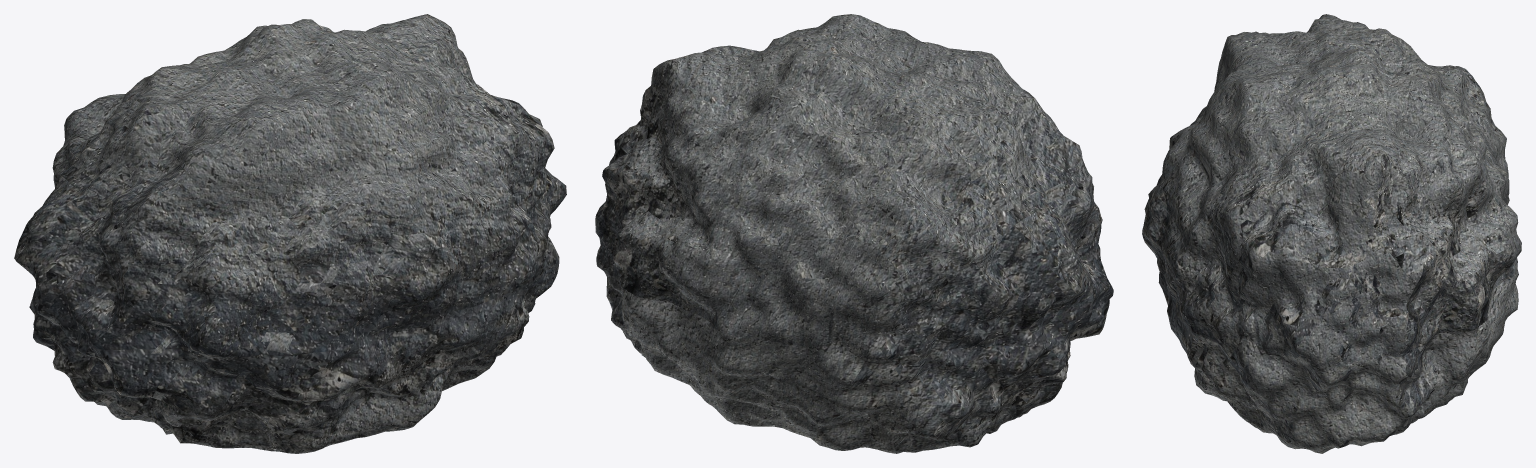
The model's file is cracked-boulder-v02.glb.
3 views of the same model, side by side, from view 1: azimuth 30°, elevation 25°; view 2: azimuth 150°, elevation 25°; view 3: azimuth 270°, elevation 25° (orthographic). The views are drawn at different scales.
Visible parts, largest first — view 1: Irregular grey granite boulder; view 2: Irregular grey granite boulder; view 3: Irregular grey granite boulder.
Part boxes in pixels (x1,y1,x2,y2): Irregular grey granite boulder: (14, 14, 566, 453); Irregular grey granite boulder: (595, 14, 1113, 453); Irregular grey granite boulder: (1142, 14, 1521, 453).
Bounding box in the file's own units: 2.78 × 1.82 × 1.94.
Materials: 1 (1 with a texture image).
